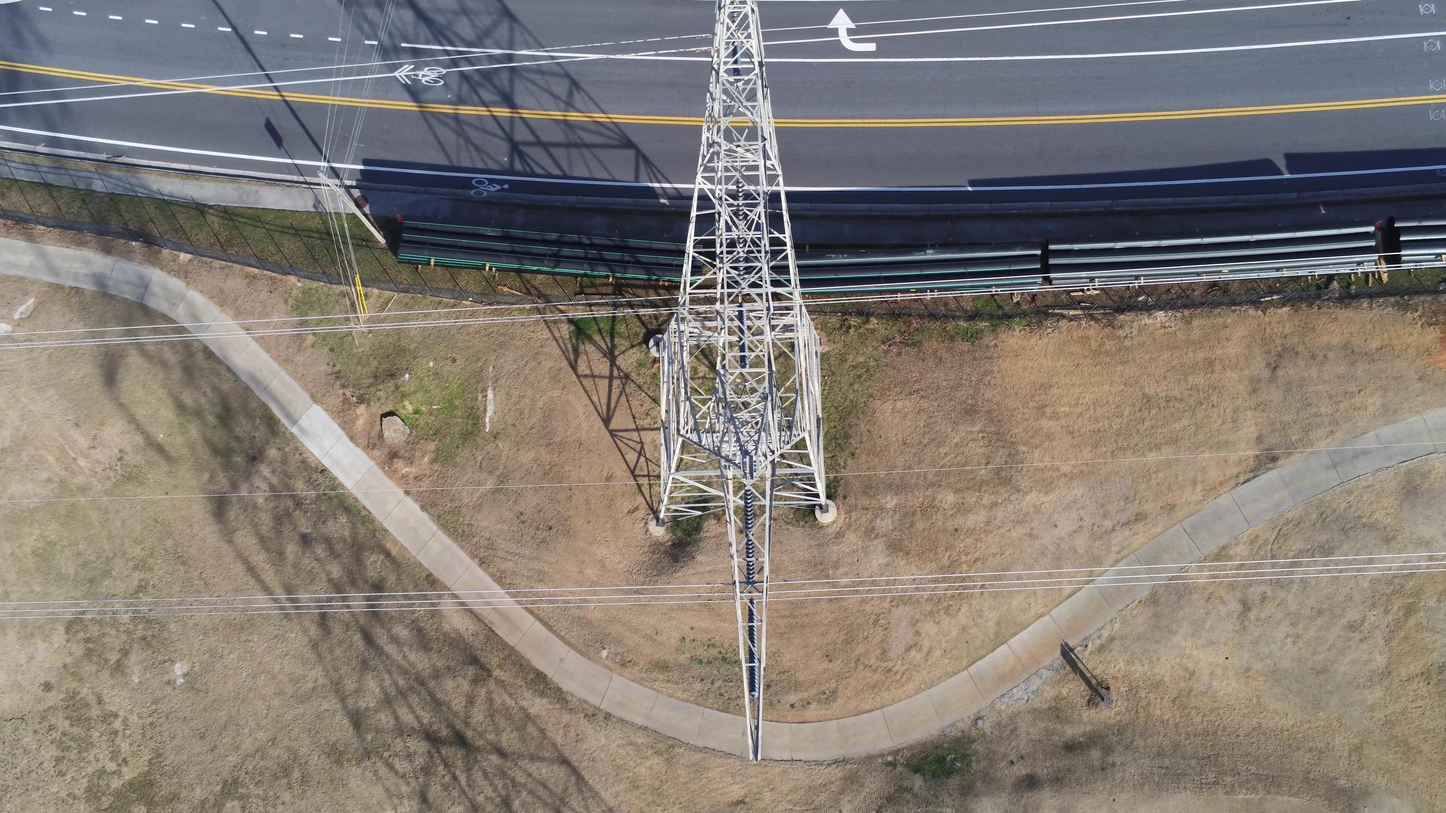power_tower: (659, 1, 827, 763)
